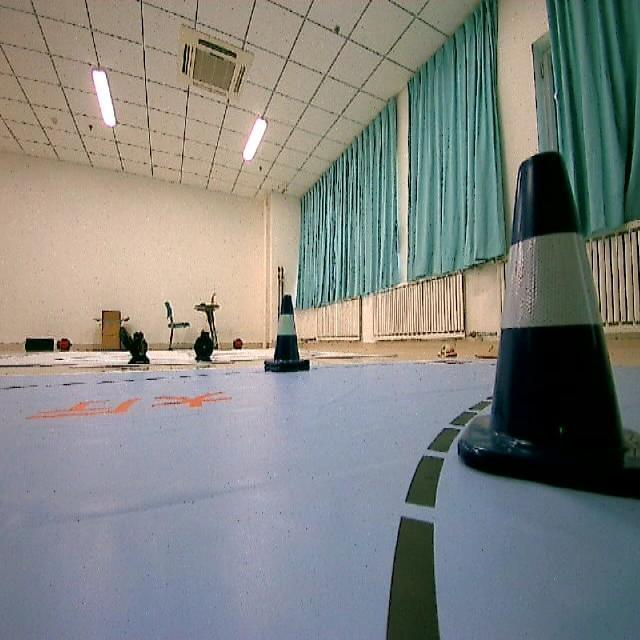obstacle: (451, 156, 640, 521), (259, 286, 315, 384)
